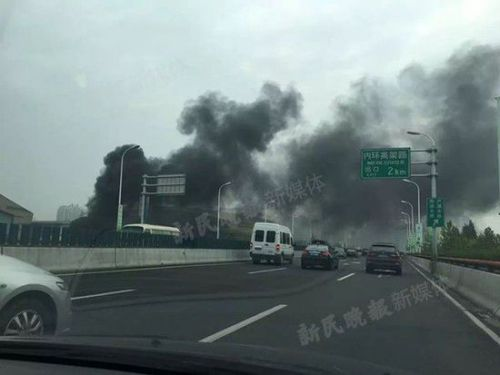smoke: (94, 71, 489, 208)
